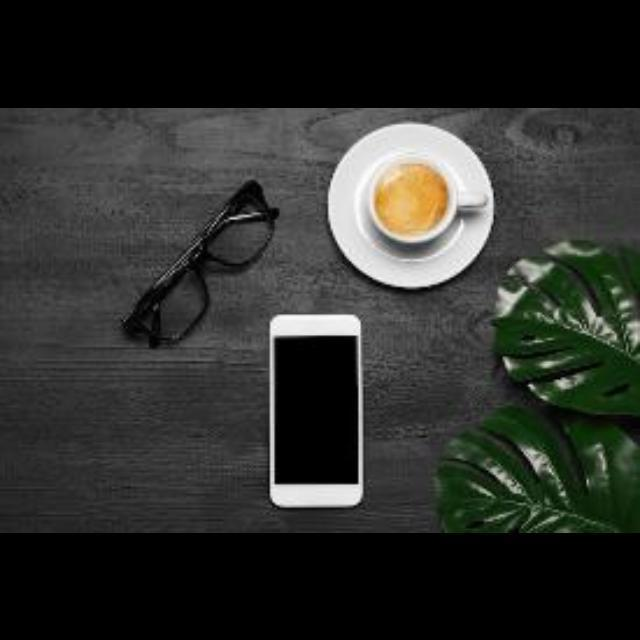PhoneUse: (270, 314, 364, 510)
